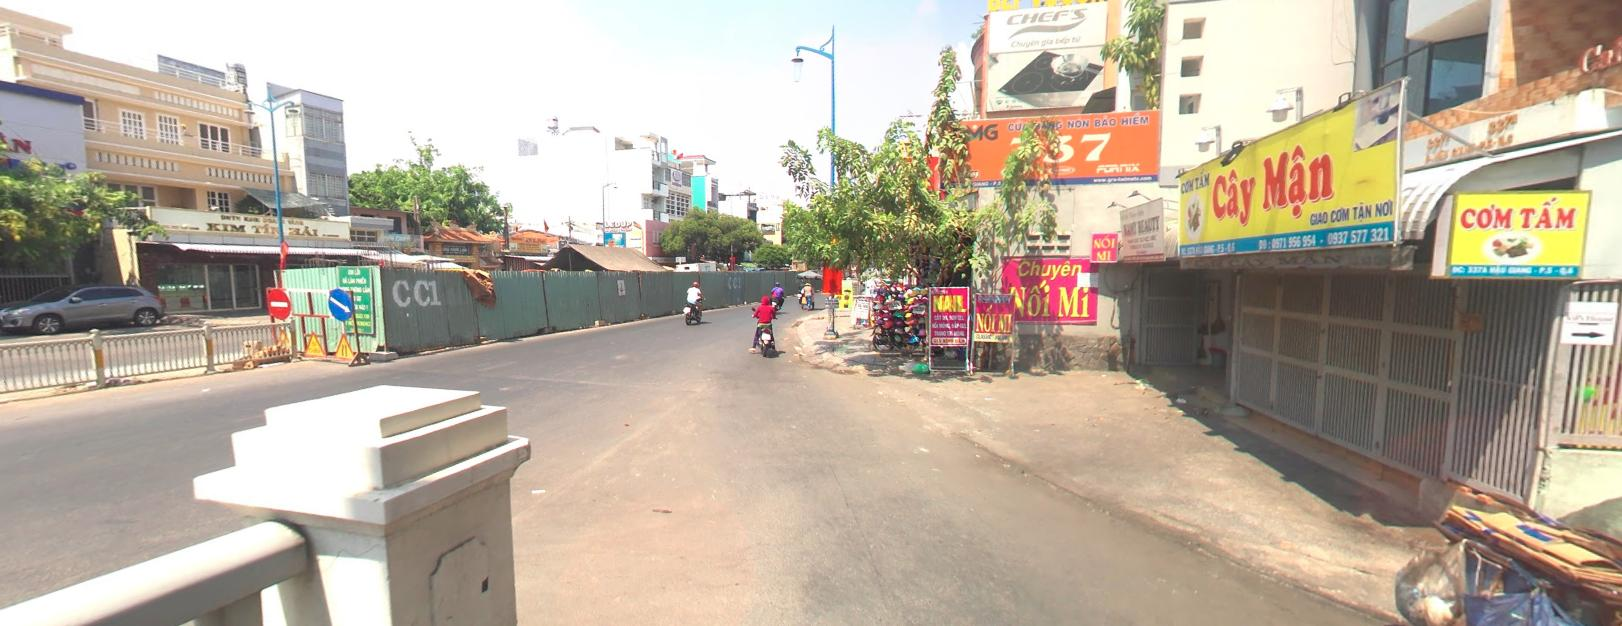Cam nguoc chieu: (266, 287, 290, 317)
Hieu lenh: (327, 287, 352, 320)
Nguy hiem: (302, 329, 325, 355), (334, 332, 356, 358), (272, 327, 294, 352)
